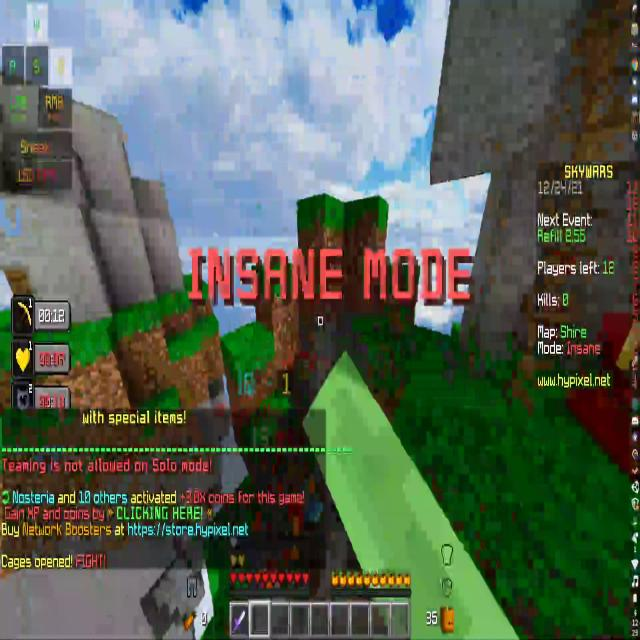Player: (225, 368, 324, 581)
